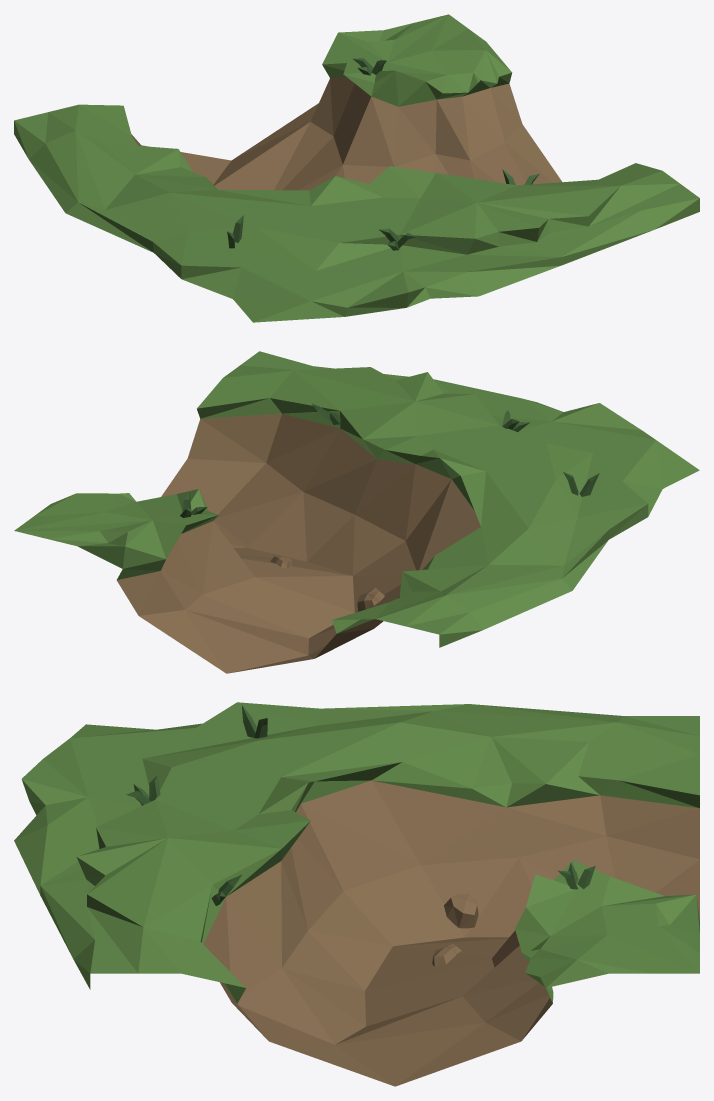
File: SM_Env_Stream_Corner_01.fbx
The picture shows the model from 3 angles, top to bottom: view 1: azimuth 30°, elevation 25°; view 2: azimuth 150°, elevation 25°; view 3: azimuth 270°, elevation 25°; orthographic projection. The views are drawn at different scales.
Visible parts, largest first — view 1: SM_Env_Stream_Corner_01; view 2: SM_Env_Stream_Corner_01; view 3: SM_Env_Stream_Corner_01.
Part boxes in pixels (left/top/right/bottom): SM_Env_Stream_Corner_01: left=14, top=14, right=699, bottom=322; SM_Env_Stream_Corner_01: left=14, top=351, right=699, bottom=673; SM_Env_Stream_Corner_01: left=14, top=702, right=699, bottom=1086.
Bounding box in the file's own units: 0.0549 × 0.0131 × 0.0563.
Materials: 1 (1 with a texture image).
